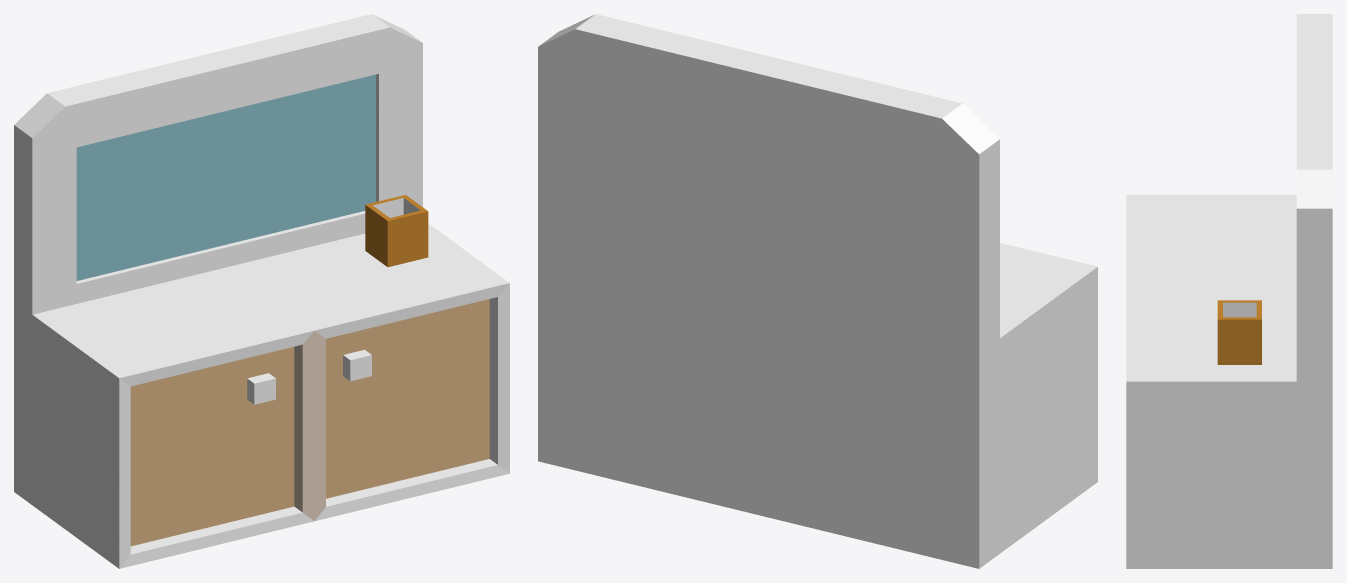
Rendered from Mirror 1.fbx.
3 renders of one model, left to right at view 1: azimuth 30°, elevation 25°; view 2: azimuth 150°, elevation 25°; view 3: azimuth 270°, elevation 25°, orthographic. The views are drawn at different scales.
Visible parts, largest first — view 1: Cube; view 2: Cube; view 3: Cube.
Part boxes in pixels (box(x1,y1,x2,y2)): Cube: box(14, 14, 509, 568); Cube: box(538, 14, 1097, 568); Cube: box(1126, 14, 1332, 568).
Bounding box in the file's own units: 257 × 246 × 120.
